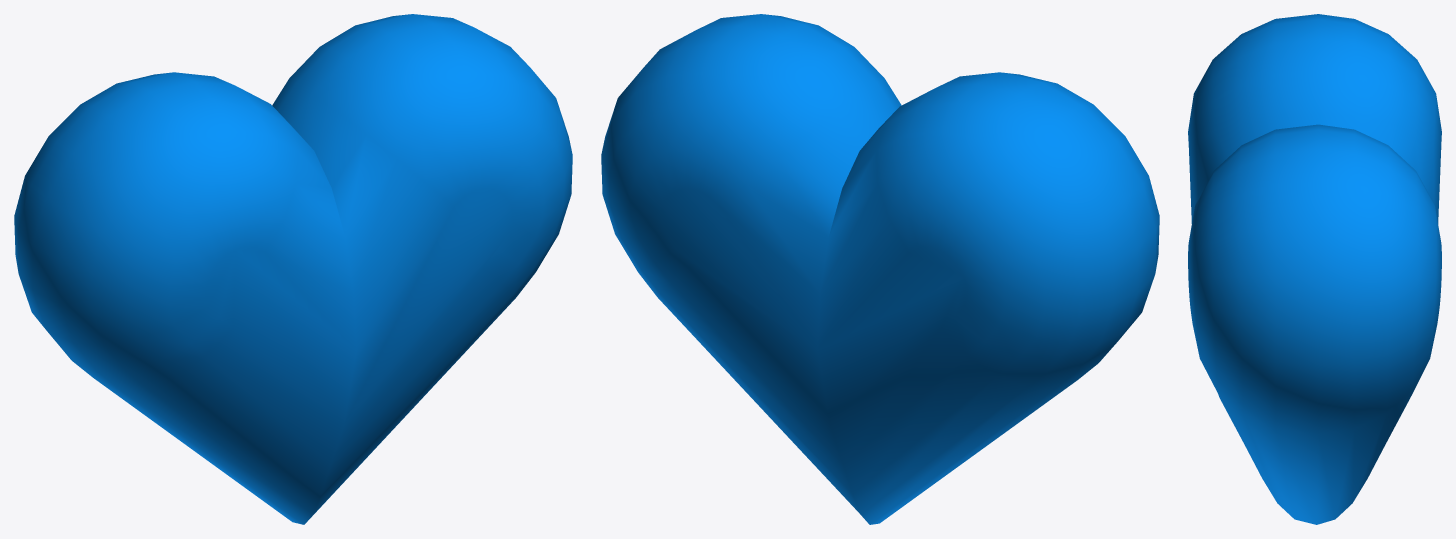
Rendered from Heart_V2_0.fbx.
3 renders of one model, left to right at view 1: azimuth 30°, elevation 25°; view 2: azimuth 150°, elevation 25°; view 3: azimuth 270°, elevation 25°, orthographic. The views are drawn at different scales.
Visible parts, largest first — view 1: Heart_V2_0; view 2: Heart_V2_0; view 3: Heart_V2_0.
Boxes of the visible parts, x1,y1,x2,y2 form: Heart_V2_0: (14, 14, 572, 524); Heart_V2_0: (601, 14, 1159, 524); Heart_V2_0: (1188, 14, 1441, 524).
Size of the model in its own units: 0.5013 by 0.429 by 0.2243.
